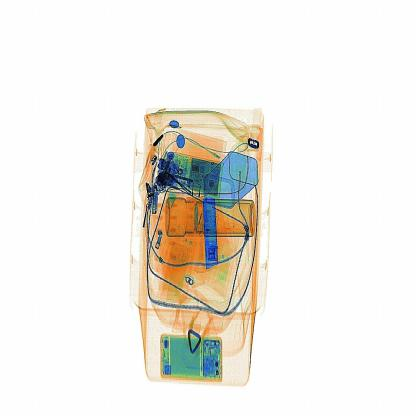pliers: (196, 193, 230, 280)
